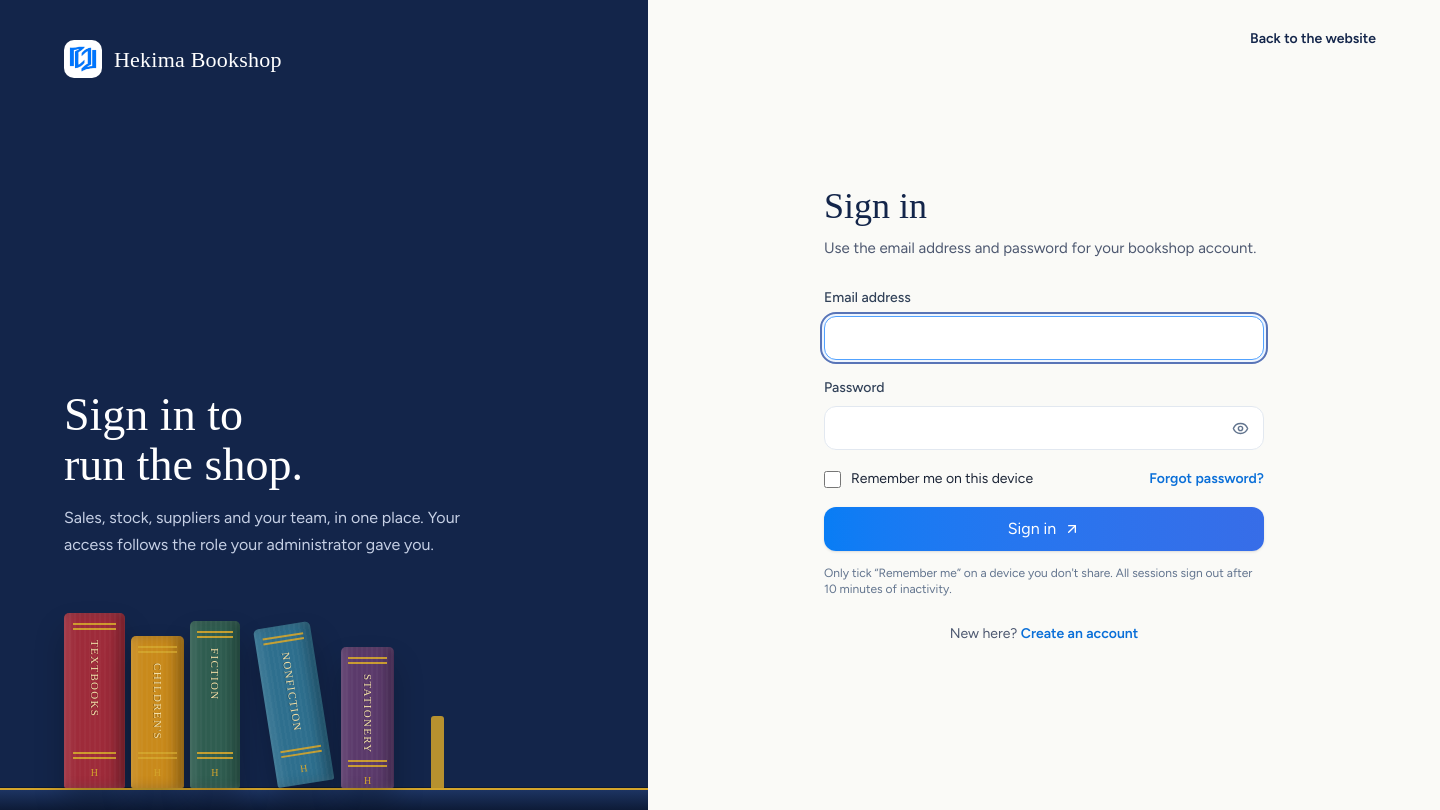
authentication forms › sends platform_owner without a bookshop to the platform after login
Type "owner@example.com" into the field labelled "Email address" at (1044, 338), box [824,316,1264,360]
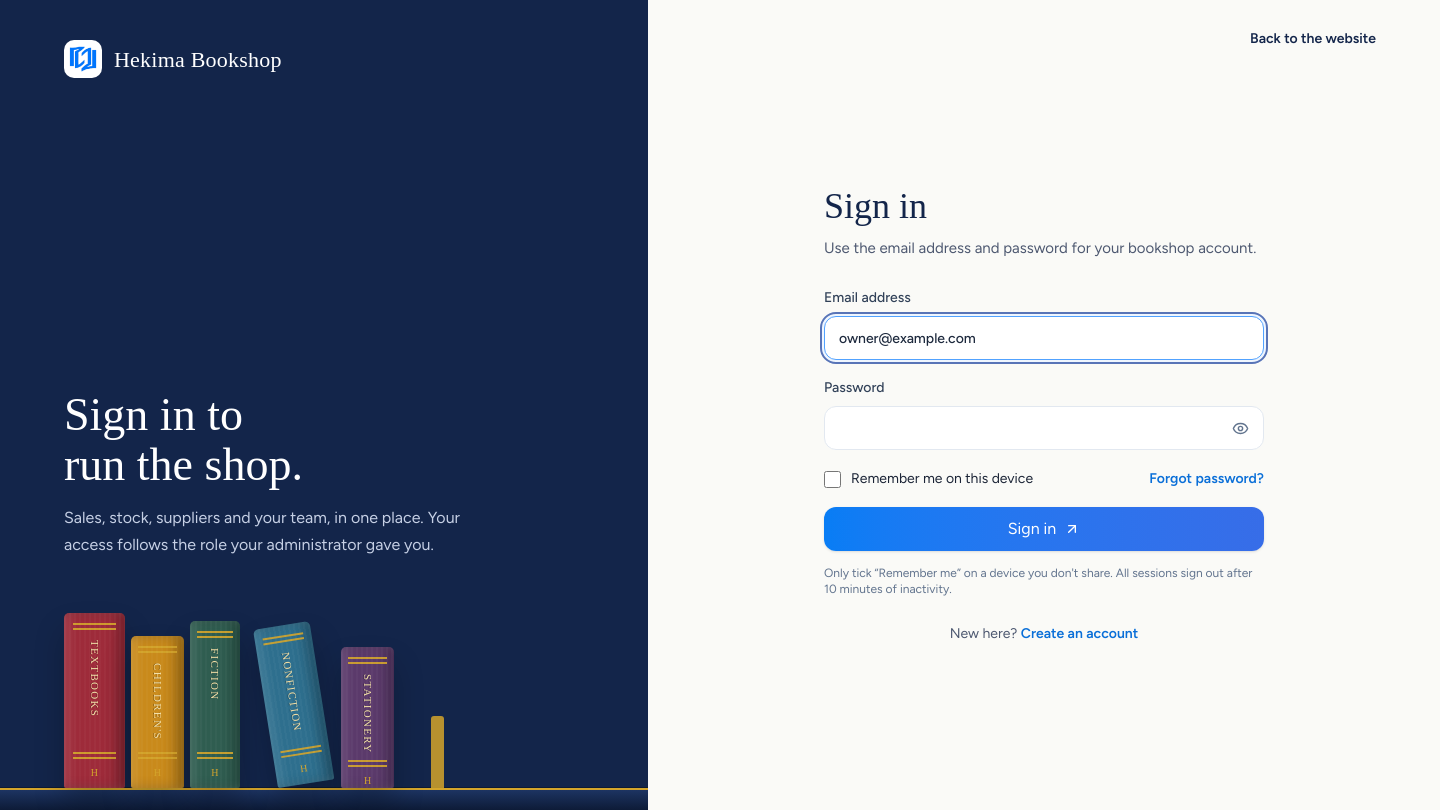
Type "Secret-1!" into the password field with id "login-password" at (1044, 428), box [824,406,1264,450]
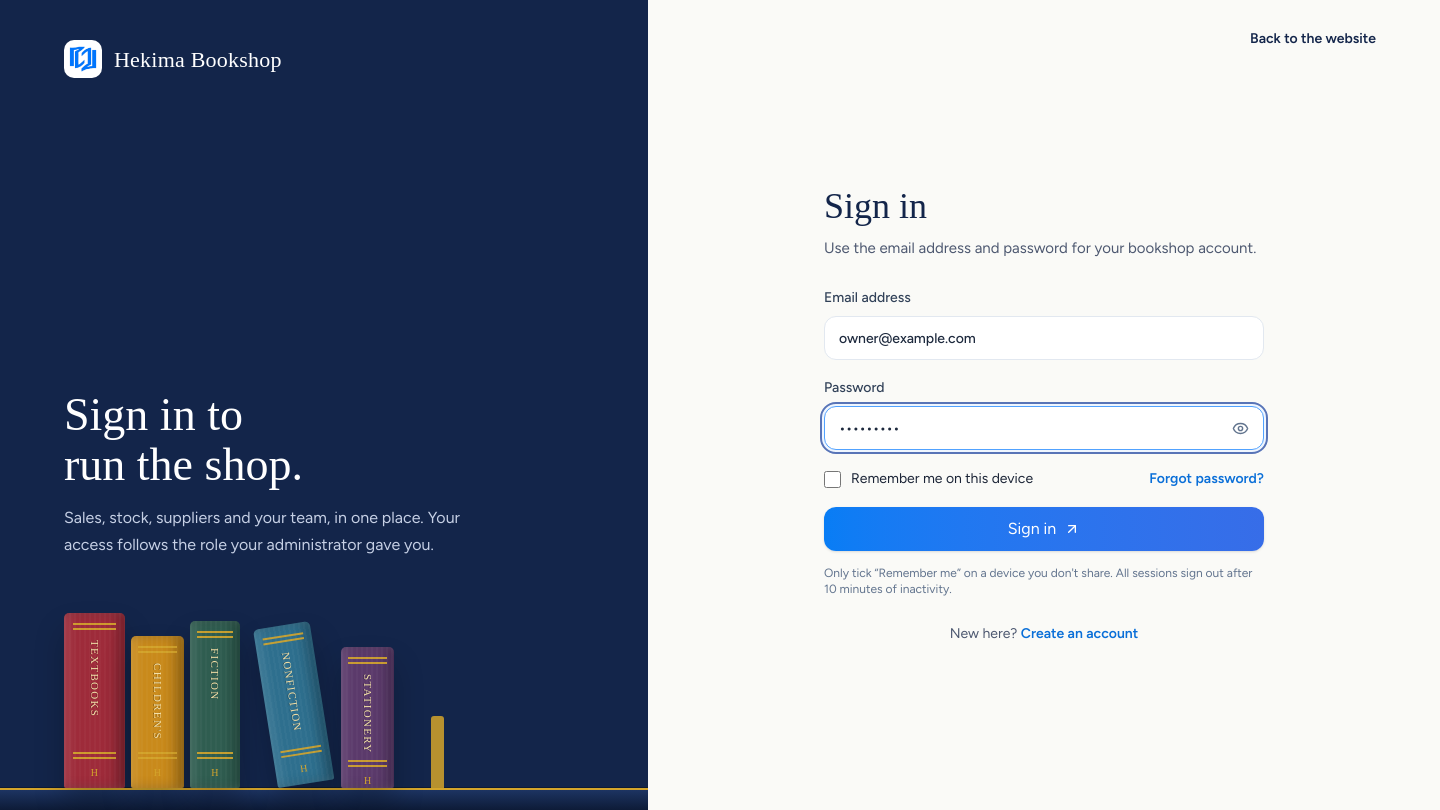
Click the button "Sign in" at (1044, 529), box [824,507,1264,551]
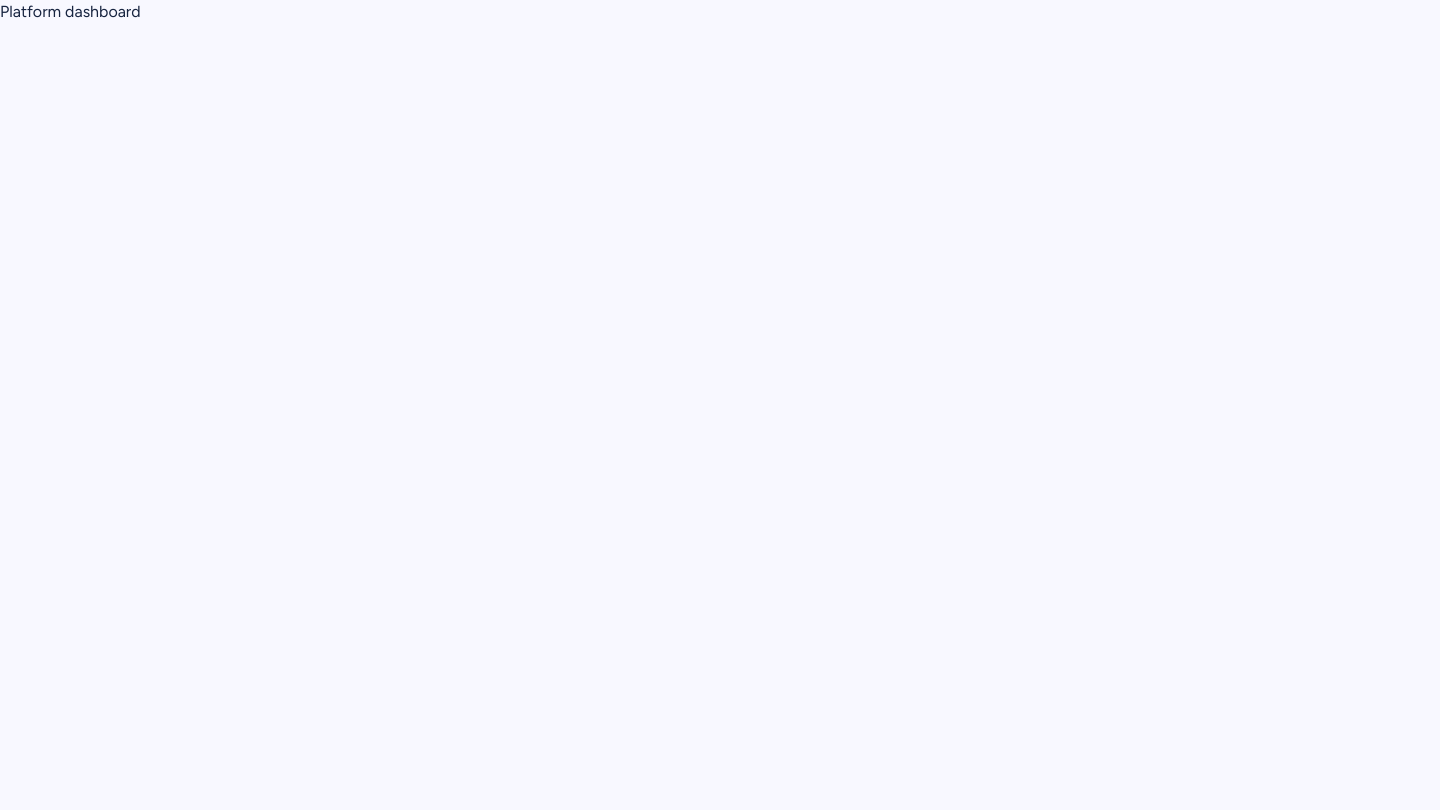
Expected: the text "Platform dashboard" is shown, [0,2,141,21]
